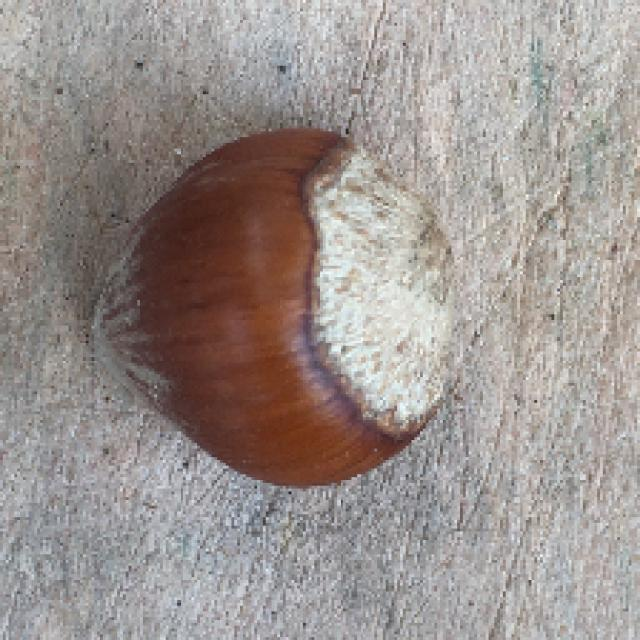qualityHazelnut: (72, 115, 477, 488)
